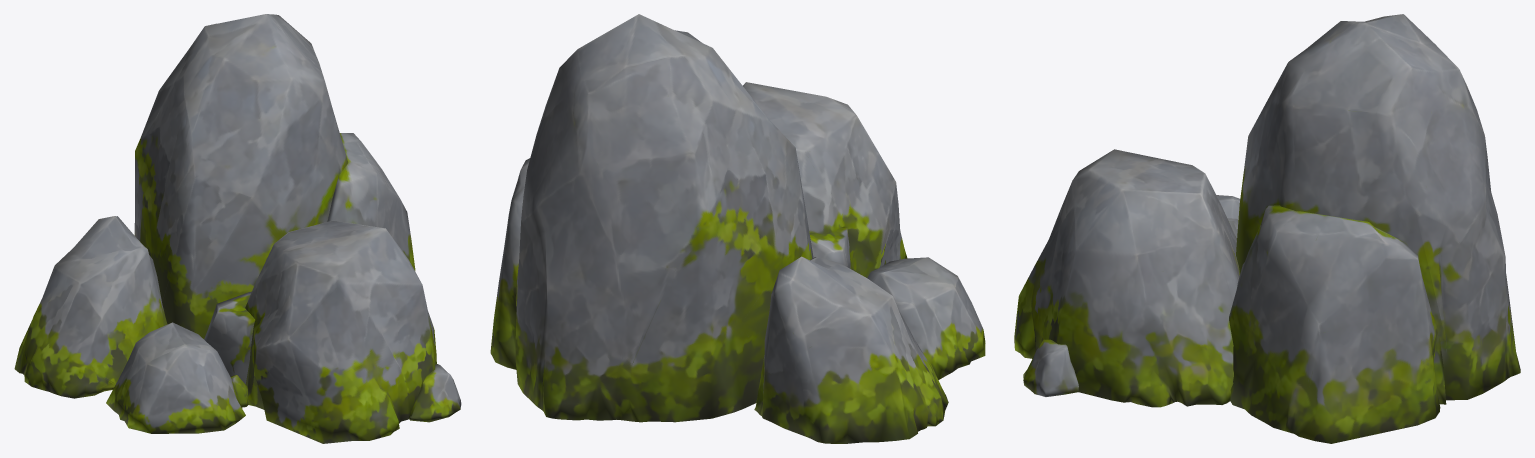
Rendered from Rocks.glb.
3 renders of one model, left to right at view 1: azimuth 30°, elevation 25°; view 2: azimuth 150°, elevation 25°; view 3: azimuth 270°, elevation 25°, orthographic. The views are drawn at different scales.
Visible parts, largest first — view 1: Rocks; view 2: Rocks; view 3: Rocks.
Boxes of the visible parts, x1,y1,x2,y2 form: Rocks: (14,14,461,443); Rocks: (490,14,985,443); Rocks: (1014,14,1520,443).
Bounding box in the file's own units: 0.9531 × 0.709 × 0.9458.
Materials: 1 (1 with a texture image).
